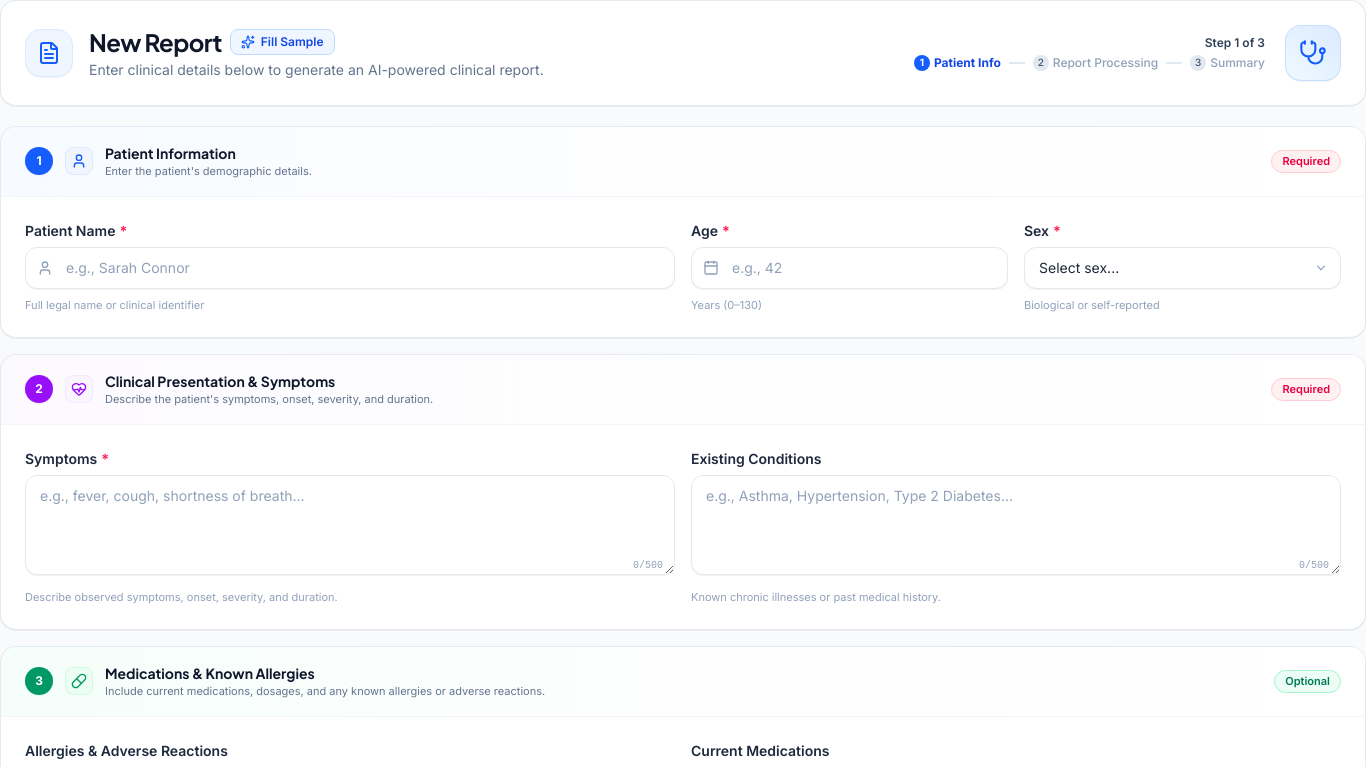
Test: PatientForm Component › populates test data when clicking Fill Sample button
The image size is (1366, 767).
Click the button "Fill Sample" at (282, 42), box [230,29,334,55]
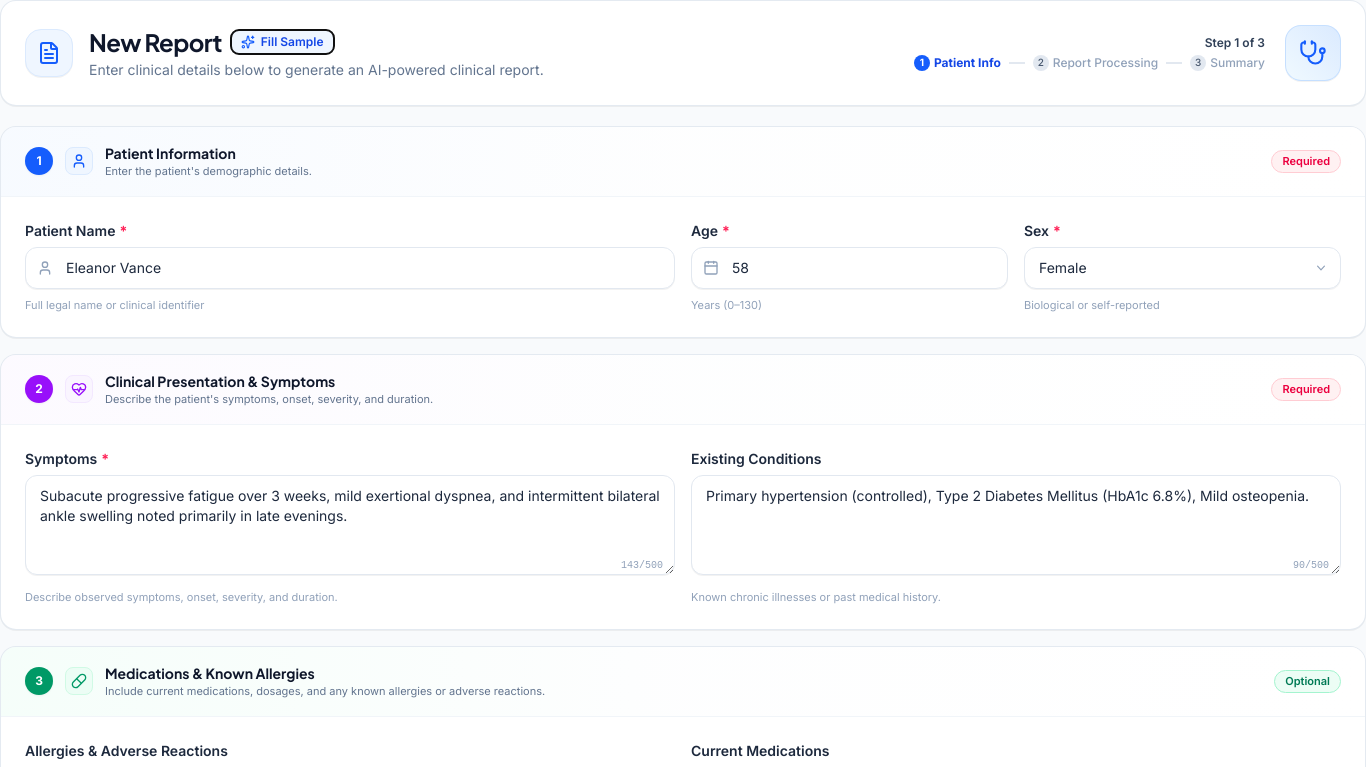
Check: the field labelled "Patient Name*" holds "Eleanor Vance", box [25,246,675,288]
Check: the number field labelled "Age*" holds "58", box [691,246,1008,288]
Check: the dropdown labelled "Sex*" shows "Female", box [1024,246,1341,288]
